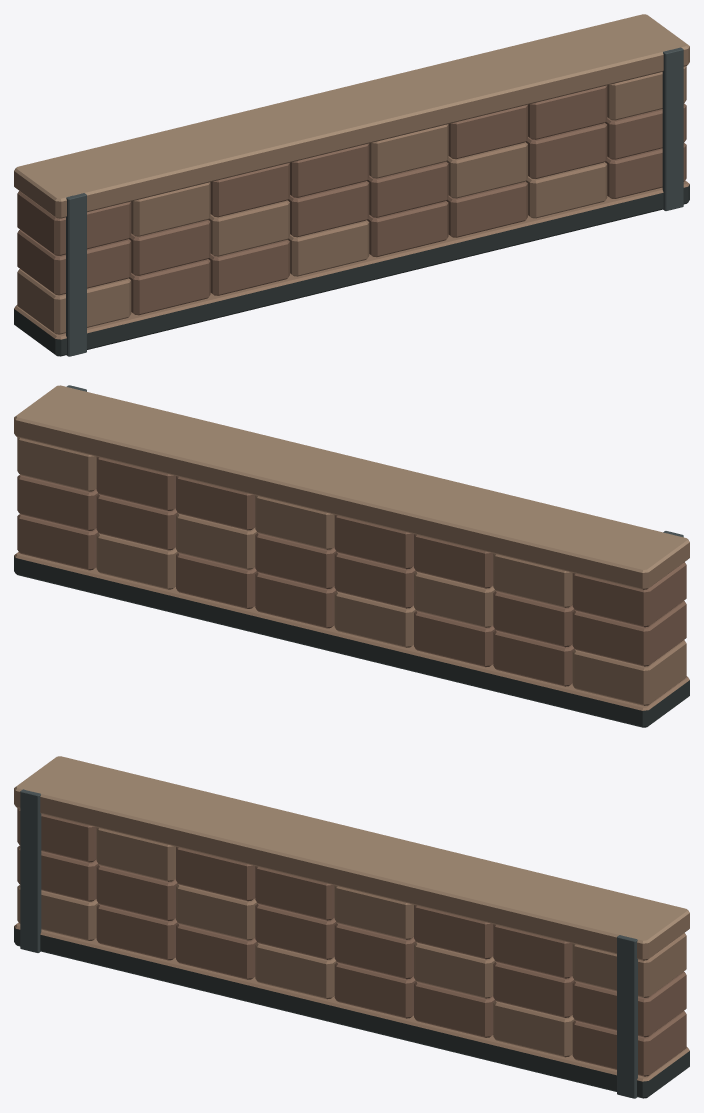
File: wall-long.glb
The picture shows the model from 3 angles, top to bottom: view 1: azimuth 30°, elevation 25°; view 2: azimuth 150°, elevation 25°; view 3: azimuth 330°, elevation 25°; orthographic projection.
Parts seen in each view (by area): view 1: wall-long__body; view 2: wall-long__body; view 3: wall-long__body.
Boxes of the visible parts, x1,y1,x2,y2 form: wall-long__body: (14,14,689,356); wall-long__body: (14,385,689,727); wall-long__body: (14,756,689,1098).
Size of the model in its own units: 4 by 0.95 by 0.5175.
